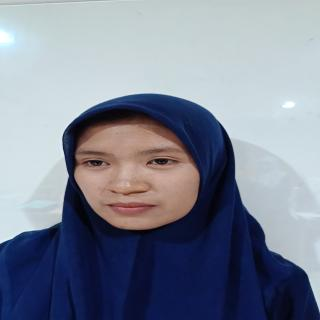Netral: (68, 112, 210, 236)
